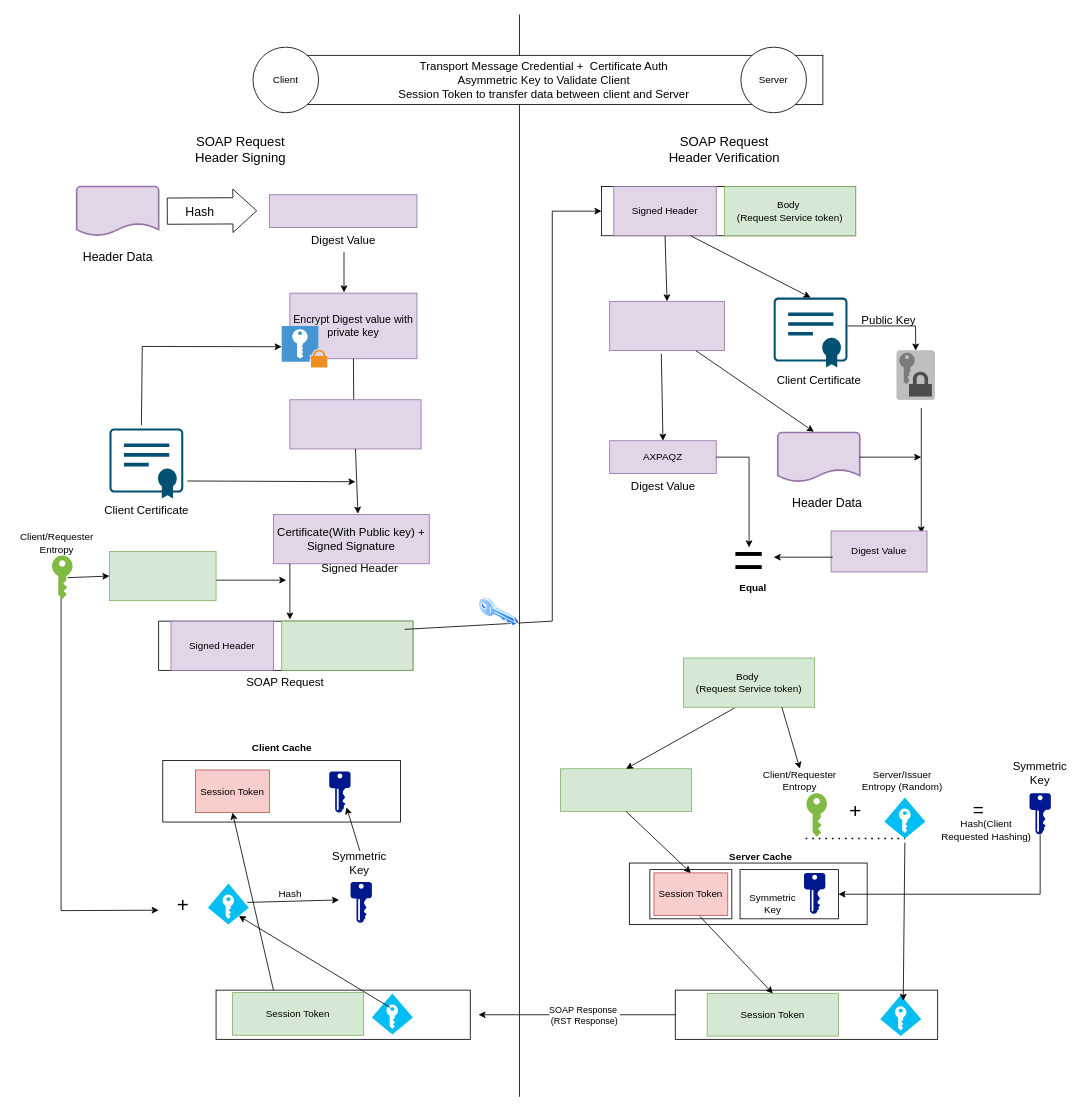
The diagram is 1082 pixels wide and 1112 high, and some of its shapes have lost their labels. Here are the shapes that lost their labels. From the top down, the centre of each, then its label:
At pixel 343 211: "jl957D9ajY2oX4tYsohU".
At pixel 666 326: "Signature".
At pixel 355 424: "Signed Signature".
At pixel 162 576: "Body(Request SCT)".
At pixel 347 645: "Body".
At pixel 626 789: "Generate Random Session Token".
